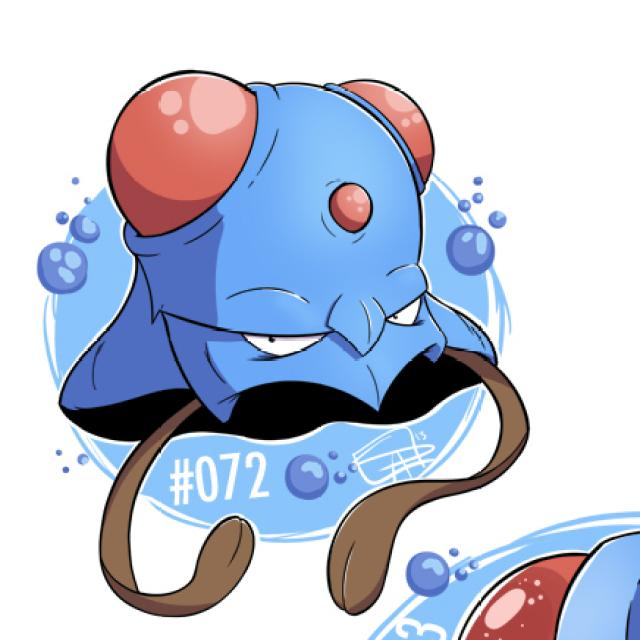Tentacool: (97, 72, 494, 607)
